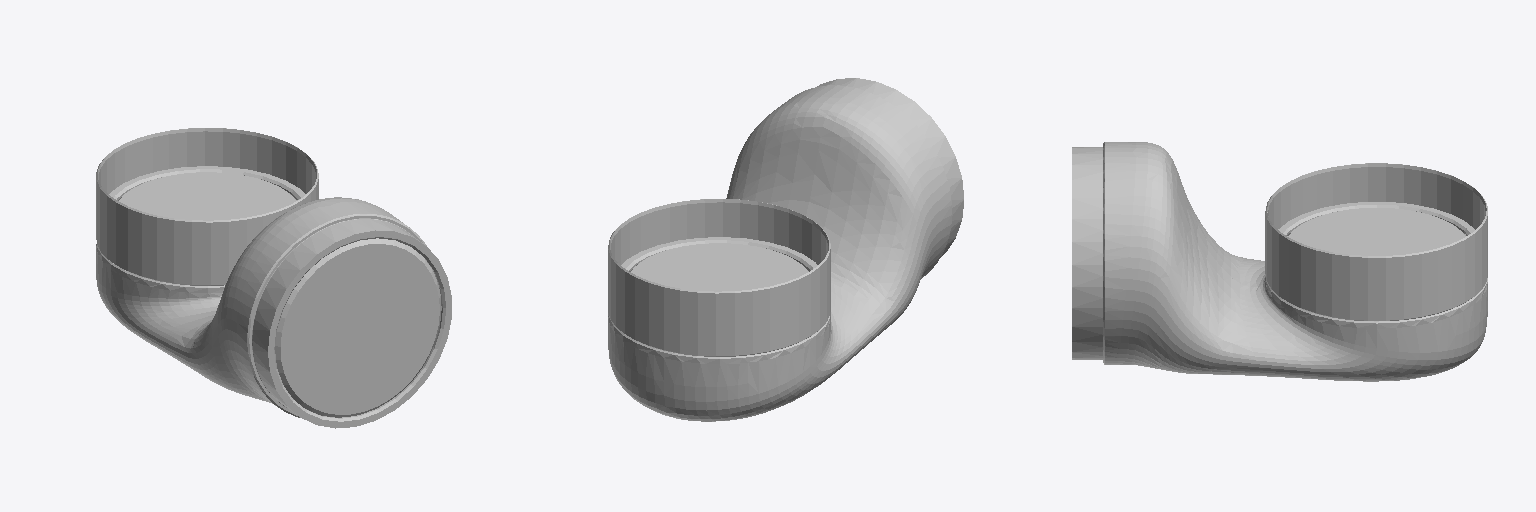
The model's file is shoulder_link_collisions_mesh_0.obj.
3 renders of one model, left to right at view 1: azimuth 30°, elevation 25°; view 2: azimuth 150°, elevation 25°; view 3: azimuth 270°, elevation 25°, orthographic.
Size of the model in its own units: 0.0927 by 0.0947 by 0.172.